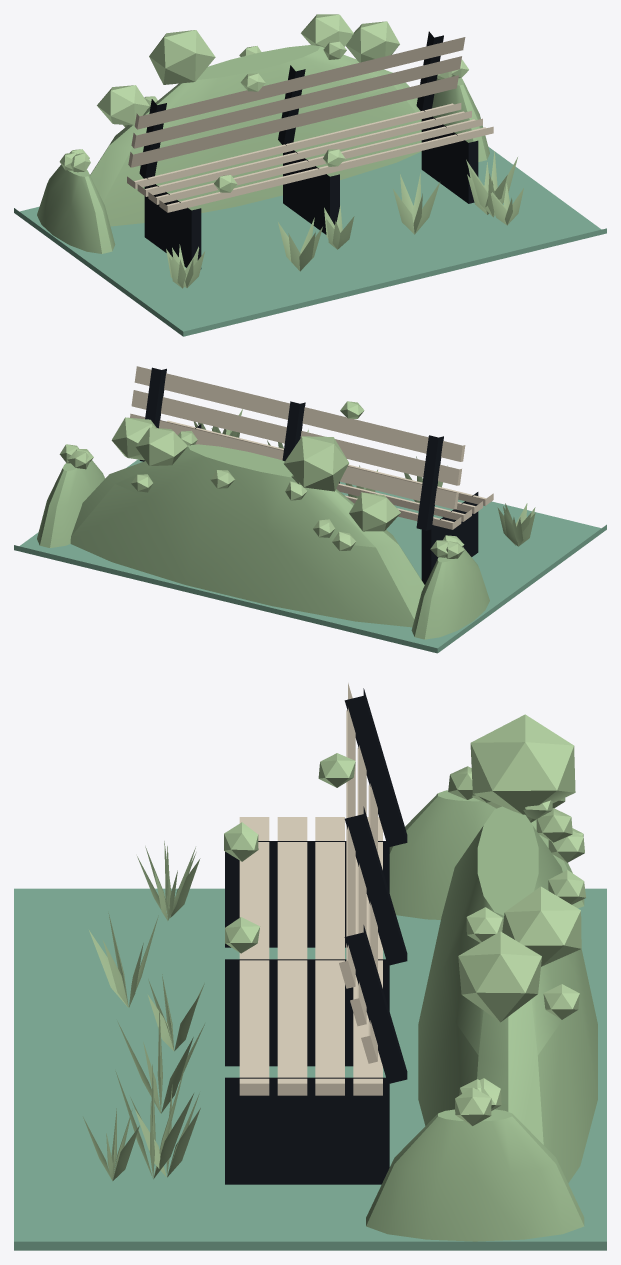
3 views of the same model, one above another, from view 1: azimuth 30°, elevation 25°; view 2: azimuth 150°, elevation 25°; view 3: azimuth 270°, elevation 25° (orthographic). The views are drawn at different scales.
Parts seen in each view (by area): view 1: Safety_Pad, Terrain, Bench_Back, Bench_Seat, Bench_Frame, Foliage, Grass_Tufts; view 2: Terrain, Safety_Pad, Bench_Back, Foliage, Bench_Frame, Bench_Seat, Grass_Tufts; view 3: Safety_Pad, Terrain, Bench_Frame, Foliage, Bench_Seat, Grass_Tufts, Bench_Back.
Part boxes in pixels (x1,y1,x2,y2): Safety_Pad: (14,147,606,336); Terrain: (37,45,489,253); Bench_Back: (128,37,465,167); Bench_Seat: (127,103,493,212); Bench_Frame: (139,31,478,268); Foliage: (59,14,468,192); Grass_Tufts: (166,151,523,288); Terrain: (37,444,489,639); Safety_Pad: (14,459,606,653); Bench_Back: (130,366,465,509); Foliage: (59,401,464,558); Bench_Frame: (139,367,478,584); Bench_Seat: (160,420,493,529); Grass_Tufts: (194,409,535,546); Safety_Pad: (14,888,606,1250); Terrain: (366,790,597,1241); Bench_Frame: (225,688,407,1184); Foliage: (224,714,586,1125); Bench_Seat: (239,817,382,1095); Grass_Tufts: (83,841,204,1180); Bench_Back: (339,683,377,1063).
Size of what is drawn, in the model's own units: 2.6 by 0.947 by 1.8.
Materials: 5 (1 with a texture image).
